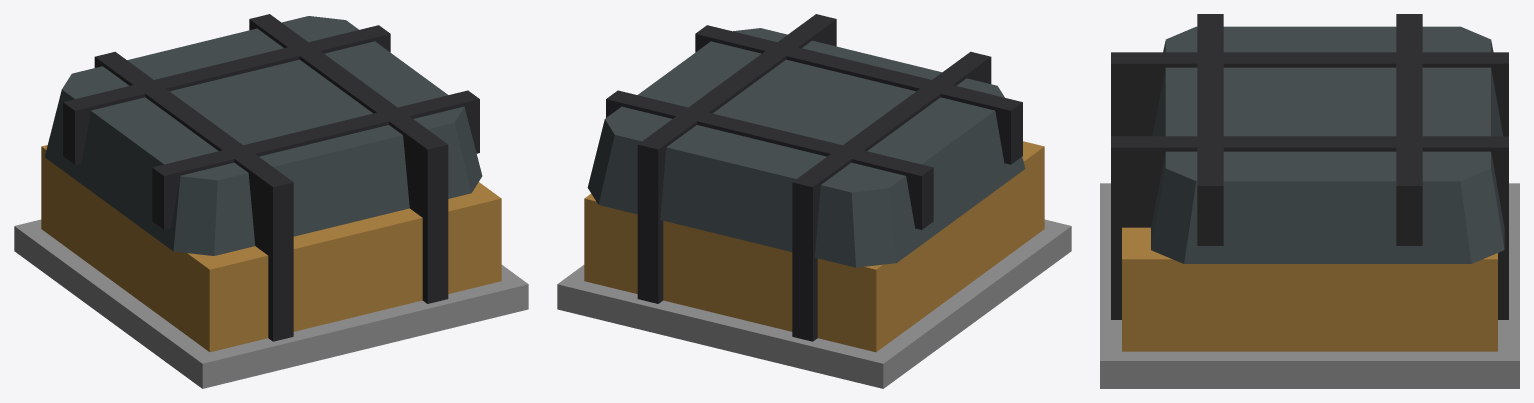
File: vge_spacer_pallet_meals.obj
3 renders of one model, left to right at view 1: azimuth 30°, elevation 25°; view 2: azimuth 150°, elevation 25°; view 3: azimuth 270°, elevation 25°, orthographic. The views are drawn at different scales.
Visible parts, largest first — view 1: vge_spacer_pallet_meals_2, vge_spacer_pallet_meals_1, vge_spacer_pallet_meals_0, vge_spacer_pallet_meals_5, vge_spacer_pallet_meals_3, vge_spacer_pallet_meals_4, vge_spacer_pallet_meals_6; view 2: vge_spacer_pallet_meals_2, vge_spacer_pallet_meals_1, vge_spacer_pallet_meals_0, vge_spacer_pallet_meals_3, vge_spacer_pallet_meals_5, vge_spacer_pallet_meals_4, vge_spacer_pallet_meals_6; view 3: vge_spacer_pallet_meals_2, vge_spacer_pallet_meals_1, vge_spacer_pallet_meals_0, vge_spacer_pallet_meals_5, vge_spacer_pallet_meals_3, vge_spacer_pallet_meals_4, vge_spacer_pallet_meals_6.
Part boxes in pixels (x1,y1,x2,y2): vge_spacer_pallet_meals_2: [45, 16, 482, 255]; vge_spacer_pallet_meals_1: [41, 145, 501, 352]; vge_spacer_pallet_meals_0: [14, 219, 528, 388]; vge_spacer_pallet_meals_5: [249, 14, 448, 303]; vge_spacer_pallet_meals_3: [94, 51, 293, 341]; vge_spacer_pallet_meals_4: [152, 90, 479, 229]; vge_spacer_pallet_meals_6: [63, 25, 390, 164]; vge_spacer_pallet_meals_2: [587, 28, 1025, 267]; vge_spacer_pallet_meals_1: [584, 141, 1044, 352]; vge_spacer_pallet_meals_0: [557, 219, 1071, 388]; vge_spacer_pallet_meals_3: [792, 51, 991, 341]; vge_spacer_pallet_meals_5: [637, 14, 836, 303]; vge_spacer_pallet_meals_4: [695, 25, 1022, 164]; vge_spacer_pallet_meals_6: [606, 90, 933, 229]; vge_spacer_pallet_meals_2: [1151, 26, 1504, 263]; vge_spacer_pallet_meals_1: [1122, 227, 1497, 351]; vge_spacer_pallet_meals_0: [1100, 183, 1519, 388]; vge_spacer_pallet_meals_5: [1111, 136, 1508, 319]; vge_spacer_pallet_meals_3: [1111, 52, 1508, 136]; vge_spacer_pallet_meals_4: [1197, 14, 1223, 245]; vge_spacer_pallet_meals_6: [1396, 14, 1422, 245].
Bounding box in the file's own units: 1.9 × 1 × 1.9.
